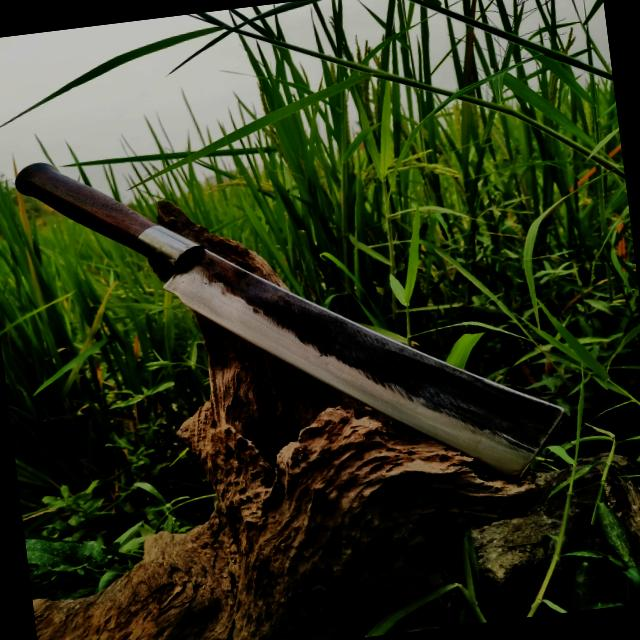eto: (0, 159, 577, 481)
